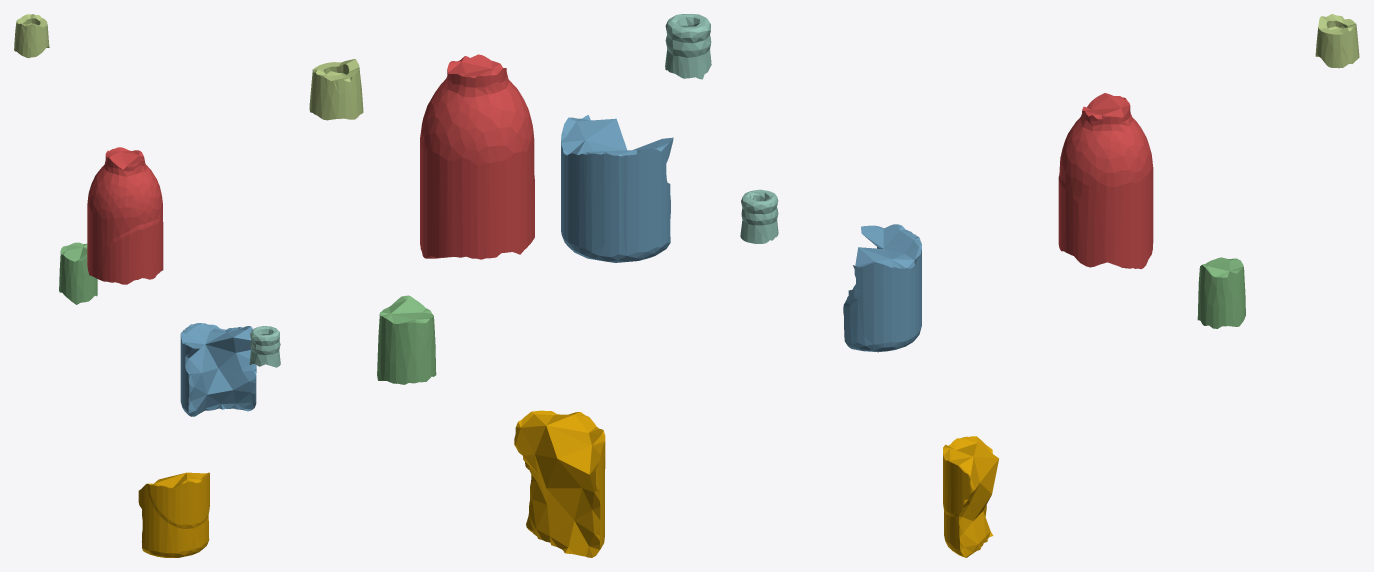
Rendered from fractured_77_6pcs_transformed.glb.
3 views of the same model, side by side, from view 1: azimuth 30°, elevation 25°; view 2: azimuth 150°, elevation 25°; view 3: azimuth 270°, elevation 25° (orthographic). The views are drawn at different scales.
Visible parts, largest first — view 1: piece_1.obj, piece_2.obj, piece_0.obj, piece_3.obj, piece_5.obj, piece_4.obj; view 2: piece_1.obj, piece_2.obj, piece_0.obj, piece_3.obj, piece_5.obj, piece_4.obj; view 3: piece_1.obj, piece_2.obj, piece_0.obj, piece_3.obj, piece_5.obj, piece_4.obj.
Boxes of the visible parts, box(x1,y1,x2,y2) form: piece_1.obj: box(87, 147, 163, 284); piece_2.obj: box(180, 323, 256, 416); piece_0.obj: box(138, 472, 209, 557); piece_3.obj: box(59, 242, 97, 304); piece_5.obj: box(14, 14, 49, 58); piece_4.obj: box(249, 326, 280, 367); piece_1.obj: box(420, 54, 534, 259); piece_2.obj: box(561, 115, 673, 262); piece_0.obj: box(514, 410, 605, 557); piece_3.obj: box(377, 295, 436, 384); piece_5.obj: box(309, 59, 363, 120); piece_4.obj: box(665, 14, 711, 79); piece_1.obj: box(1058, 93, 1153, 269); piece_2.obj: box(843, 224, 921, 352); piece_0.obj: box(943, 436, 999, 557); piece_3.obj: box(1197, 257, 1245, 328); piece_5.obj: box(1315, 14, 1359, 68); piece_4.obj: box(740, 189, 778, 243).
Size of the model in its own units: 0.2434 by 1.5 by 1.61.
